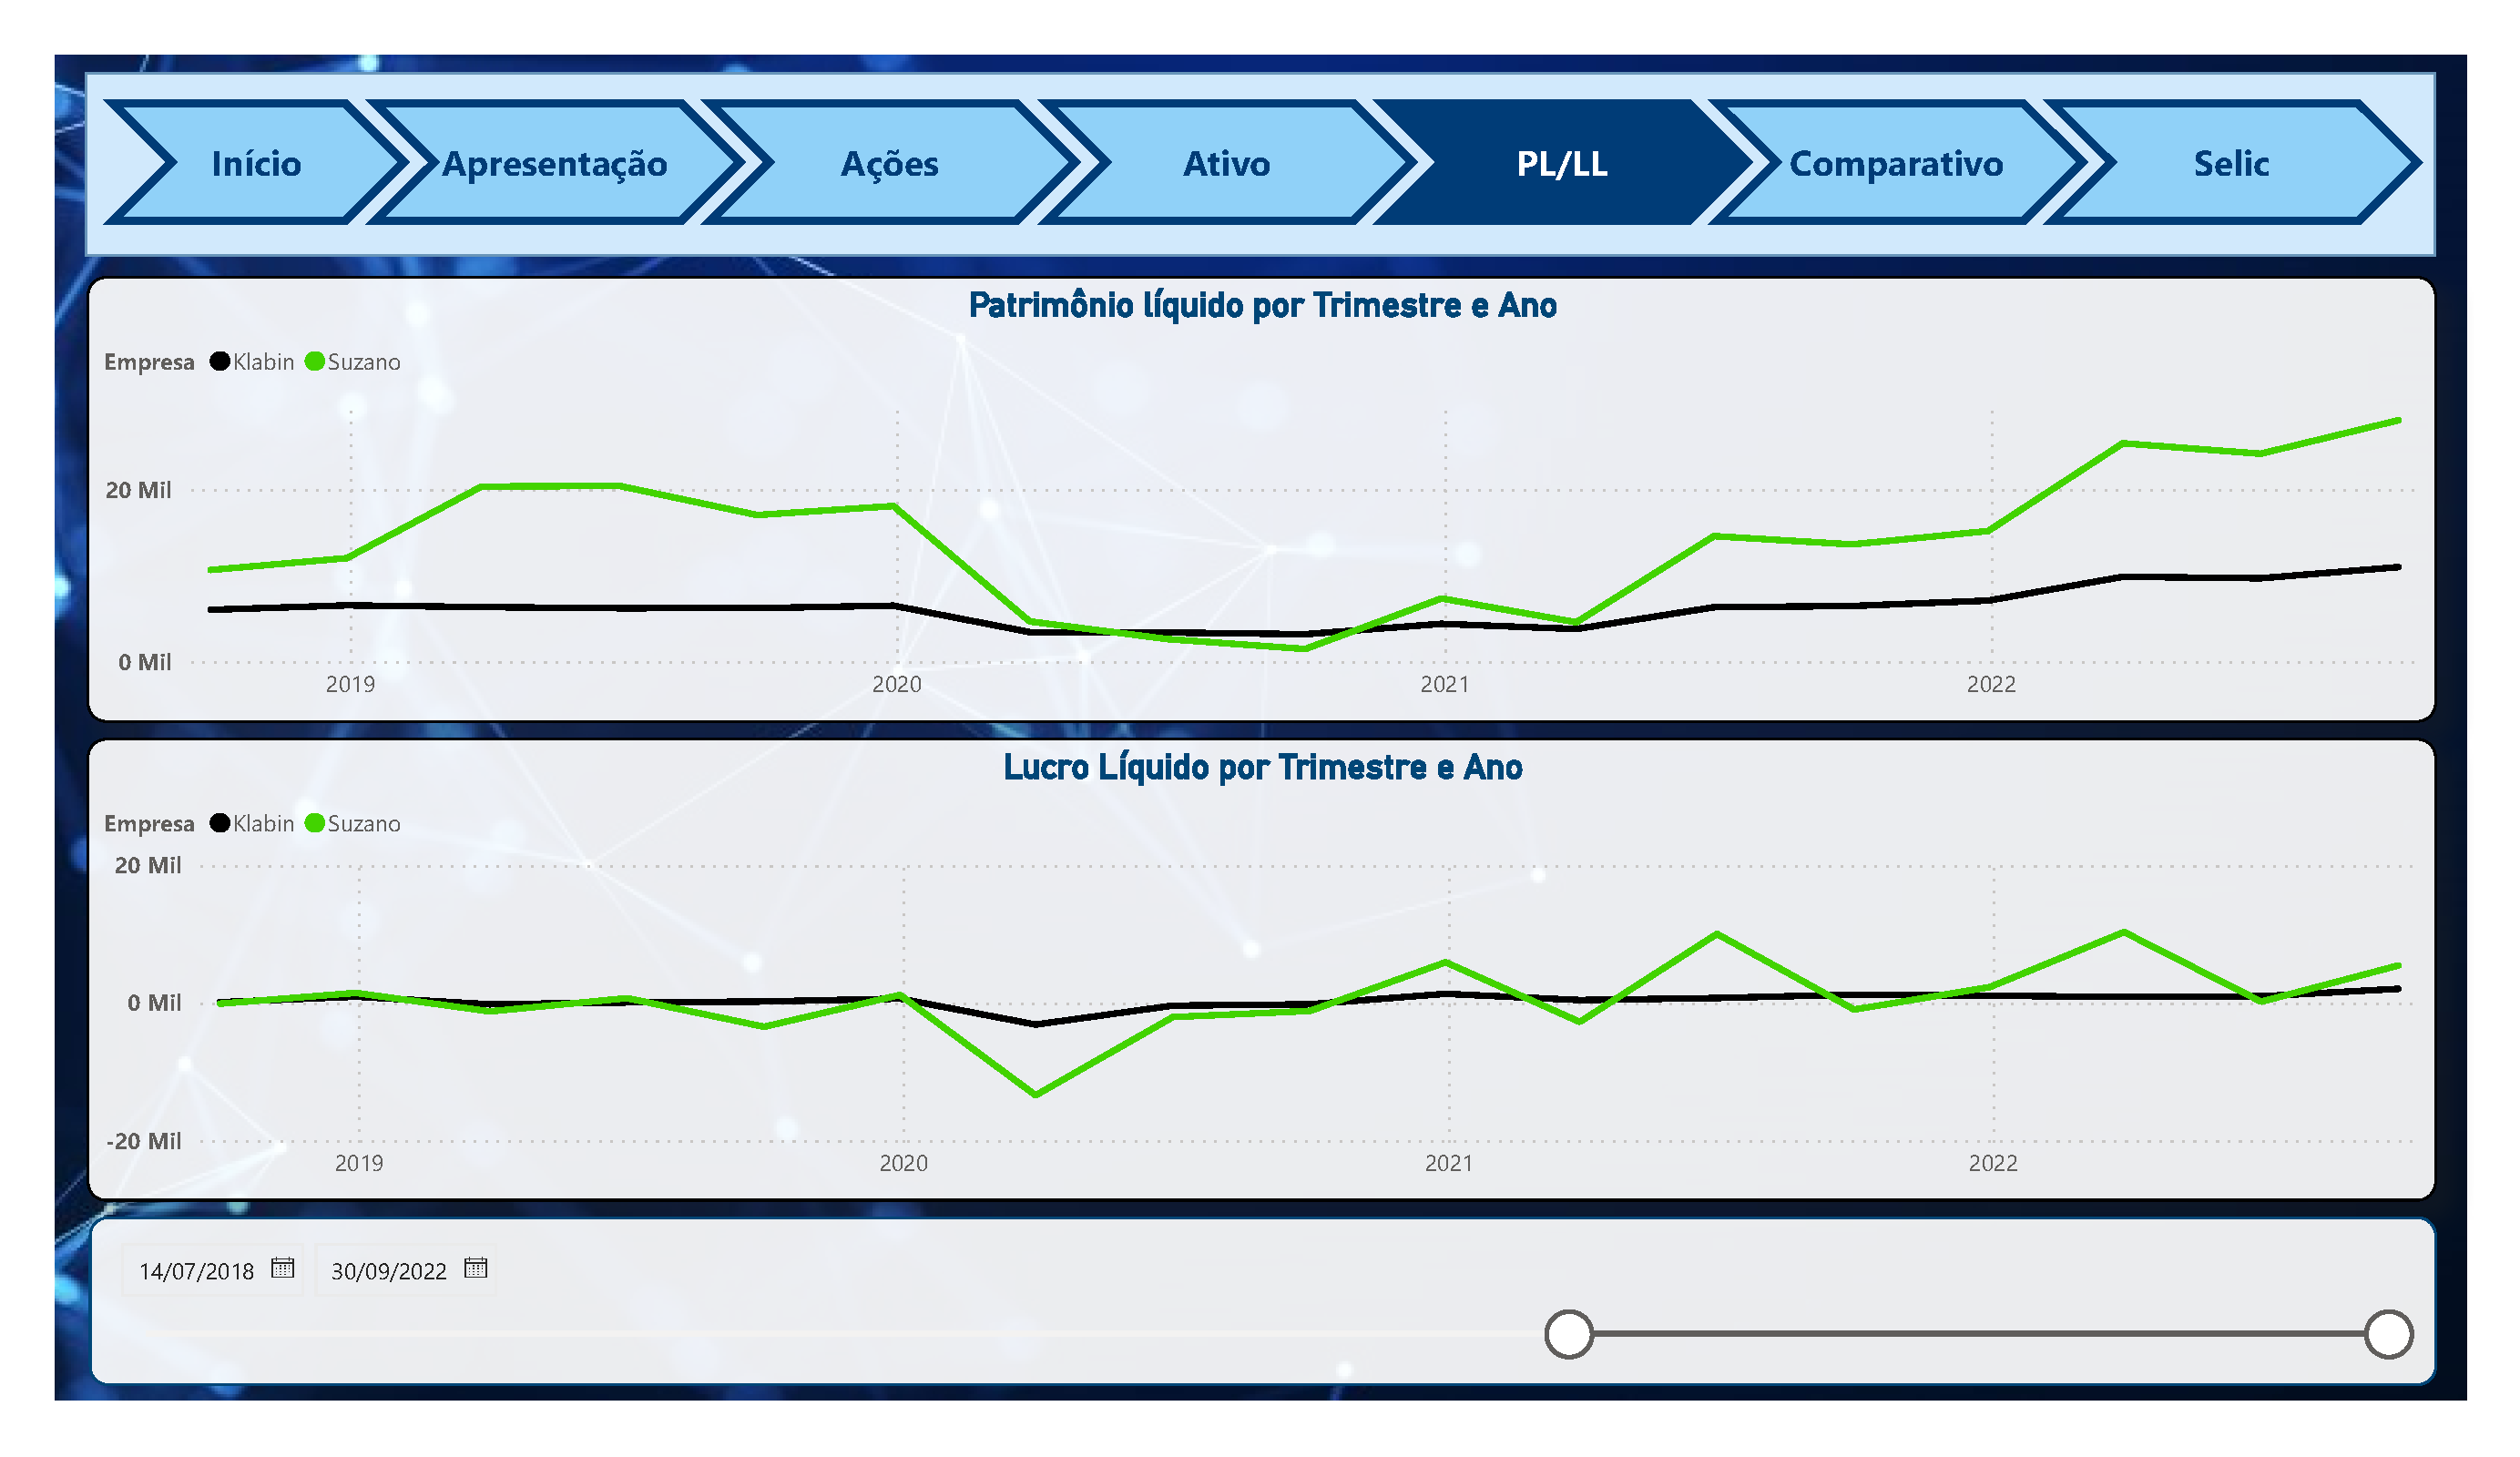

What the dashboard file says about the page in this screenshot:
{"tool":"powerbi","page":{"name":"PL_LQ","canvas":[1280,720],"ordinal":4},"visuals":[{"type":"image","box":[0,0,1280.7,719.4],"z":0},{"type":"lineChart","title":"Patrimônio líquido por Trimestre e Ano","fields":{"Category":["Tudo.DataFechamento.Variation.Hierarquia de datas.Ano","Tudo.DataFechamento.Variation.Hierarquia de datas.Trimestre","Tudo.DataFechamento.Variation.Hierarquia de datas.Mês","Tudo.DataFechamento.Variation.Hierarquia de datas.Dia"],"Series":["Tudo.Empresa"],"Y":["Sum(Tudo.  Patrimônio líq.)"]},"box":[22,122.1,1237.7,234.6],"z":1000},{"type":"lineChart","title":"Lucro Líquido por Trimestre e Ano","fields":{"Category":["Tudo.DataFechamento.Variation.Hierarquia de datas.Ano","Tudo.DataFechamento.Variation.Hierarquia de datas.Trimestre","Tudo.DataFechamento.Variation.Hierarquia de datas.Mês","Tudo.DataFechamento.Variation.Hierarquia de datas.Dia"],"Series":["Tudo.Empresa"],"Y":["Sum(Tudo.  Lucro líquido)"]},"box":[22,365,1237.7,244.3],"z":2000},{"type":"slicer","fields":{"Values":["Tudo.DataFechamento"]},"box":[22.6,617.7,1237.1,88.7],"z":3000},{"type":"shape","box":[20.6,13.7,1239.1,97.4],"z":4000},{"type":"shape","box":[30.9,29,161.4,66.2],"z":5000},{"type":"shape","box":[169.1,29,200,66.2],"z":6000},{"type":"shape","box":[345.9,29,200,66.2],"z":7000},{"type":"shape","box":[522.8,29,200,66.2],"z":8000},{"type":"shape","box":[699.6,29,200,66.2],"z":9000},{"type":"shape","box":[876.4,29,200,66.2],"z":10000},{"type":"shape","box":[1053.2,29,200,66.2],"z":11000}]}

Visuals, with their boxes on the page's 1280x720 design canvas (x1, y1, x2, y2). These are canvas units, not pixel positions in the 2520x1457 screenshot, which may show the page scaled, cropped or inside an application window:
image: [left=0, top=0, right=1281, bottom=719]
"Patrimônio líquido por Trimestre e Ano" lineChart: [left=22, top=122, right=1260, bottom=357]
"Lucro Líquido por Trimestre e Ano" lineChart: [left=22, top=365, right=1260, bottom=609]
slicer - Tudo.DataFechamento: [left=23, top=618, right=1260, bottom=706]
shape: [left=21, top=14, right=1260, bottom=111]
shape: [left=31, top=29, right=192, bottom=95]
shape: [left=169, top=29, right=369, bottom=95]
shape: [left=346, top=29, right=546, bottom=95]
shape: [left=523, top=29, right=723, bottom=95]
shape: [left=700, top=29, right=900, bottom=95]
shape: [left=876, top=29, right=1076, bottom=95]
shape: [left=1053, top=29, right=1253, bottom=95]
